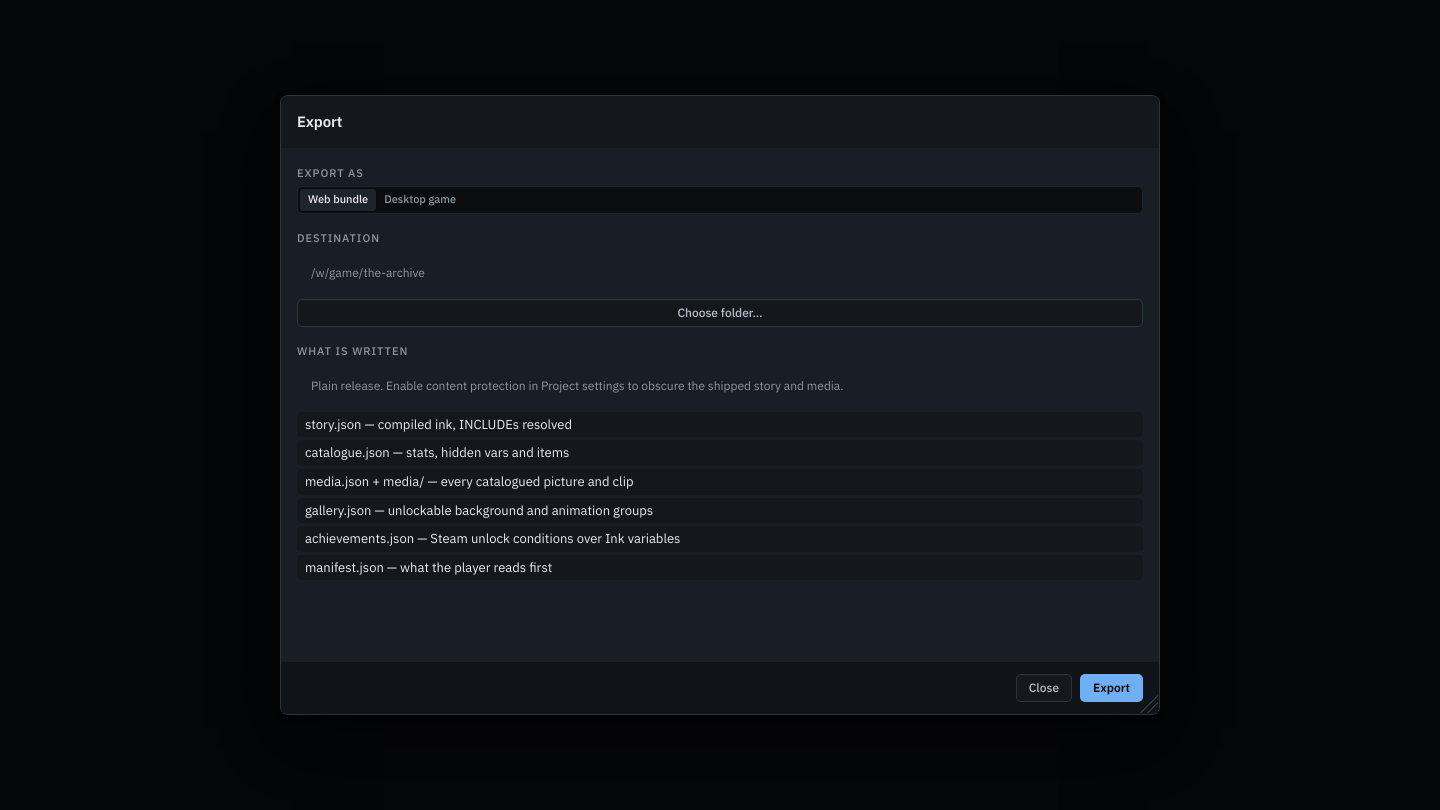
Test: ExportDialog › needs a folder of its own before a desktop export can run
Click the radio button labelled "Desktop game" at [420, 200], box [376,189,464,211]
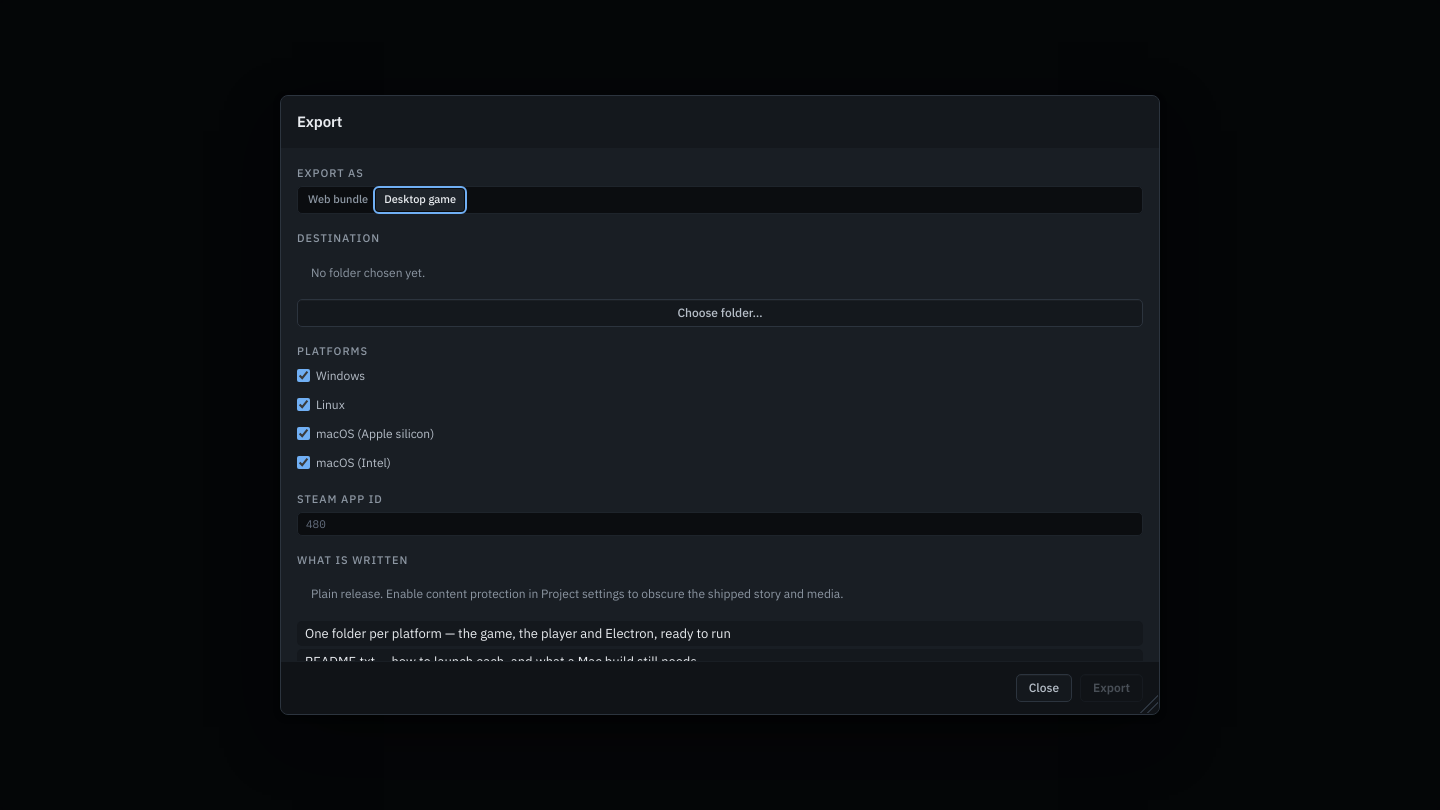
Expected: the text "No folder chosen yet." is shown, [311,265,425,280]
Expected: the button "Export" is disabled, [1080,674,1143,702]
